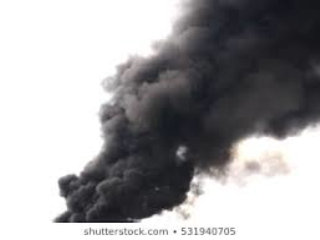smoke: (18, 4, 311, 219)
